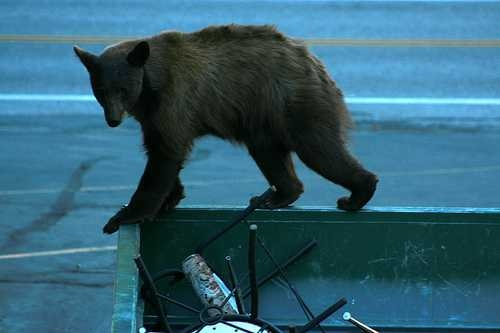bear: (68, 28, 197, 156)
